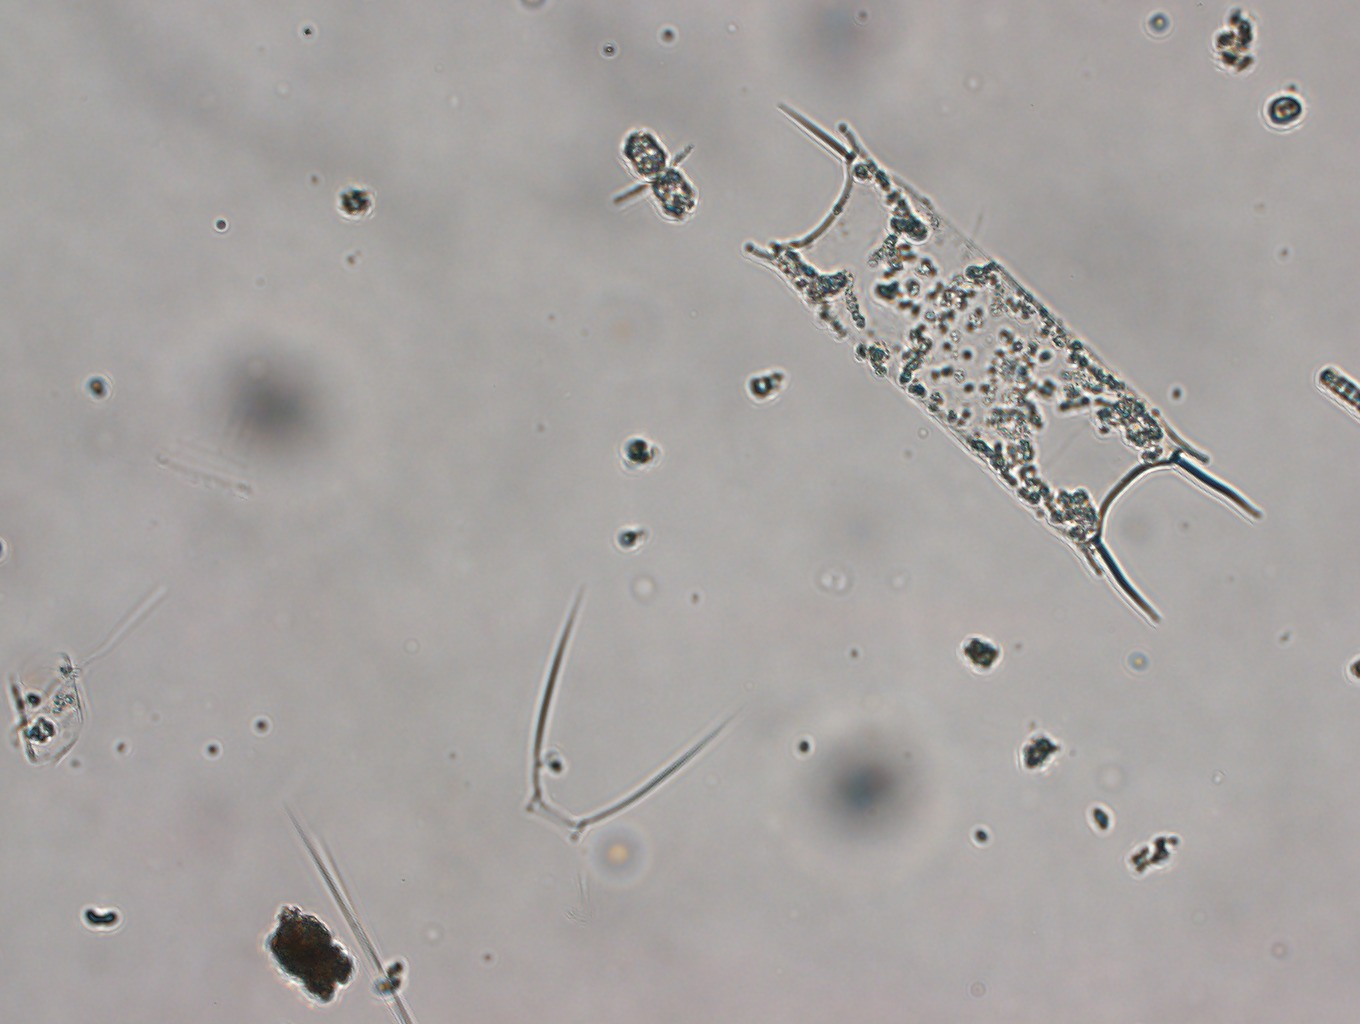biddulphia: (728, 91, 1263, 624)
chaetoceros: (514, 569, 741, 851)
